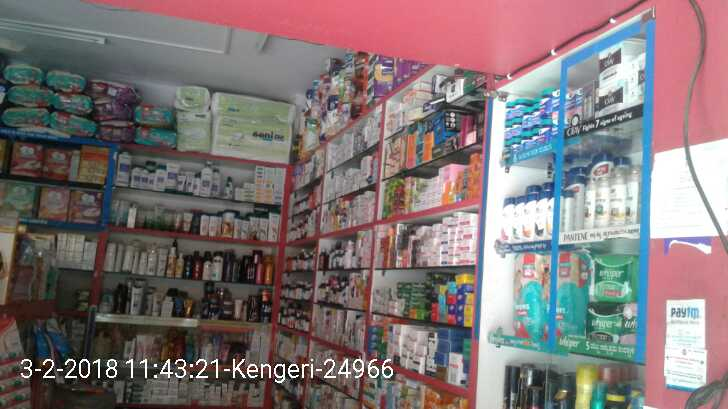beauty: (595, 78, 642, 114), (621, 161, 638, 222), (608, 165, 624, 226), (594, 40, 627, 69), (535, 187, 552, 236), (592, 170, 606, 228), (581, 177, 594, 230), (501, 195, 514, 241), (523, 191, 533, 242), (514, 195, 524, 239)
pharmacy: (493, 90, 554, 150), (553, 251, 587, 344), (509, 252, 542, 342), (590, 256, 635, 303), (583, 305, 629, 350)
